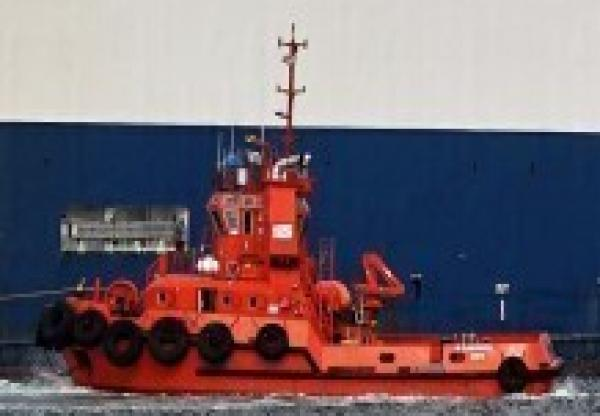Tug: (0, 3, 600, 416)
